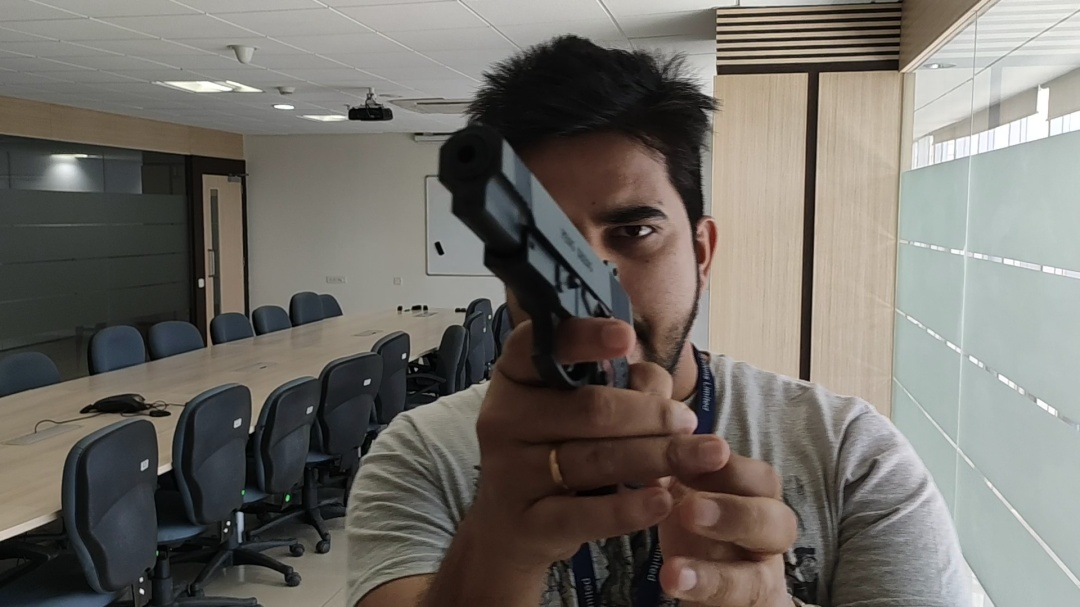gun: (463, 126, 645, 380)
